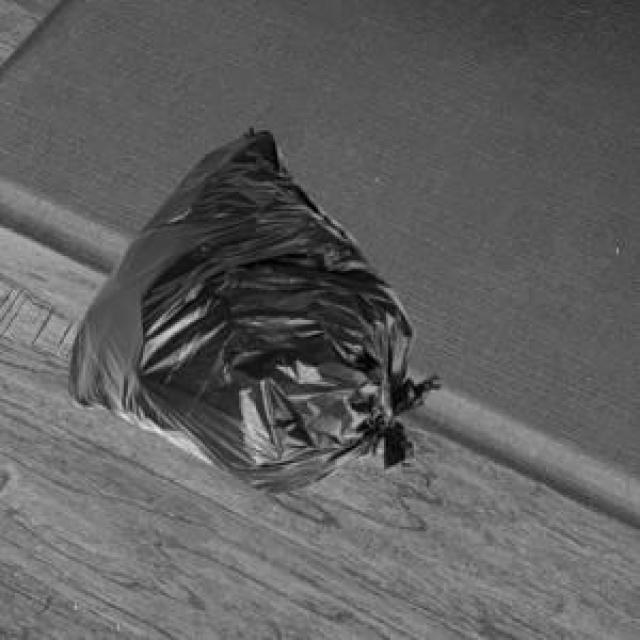miscellaneous trash: (62, 124, 435, 491)
